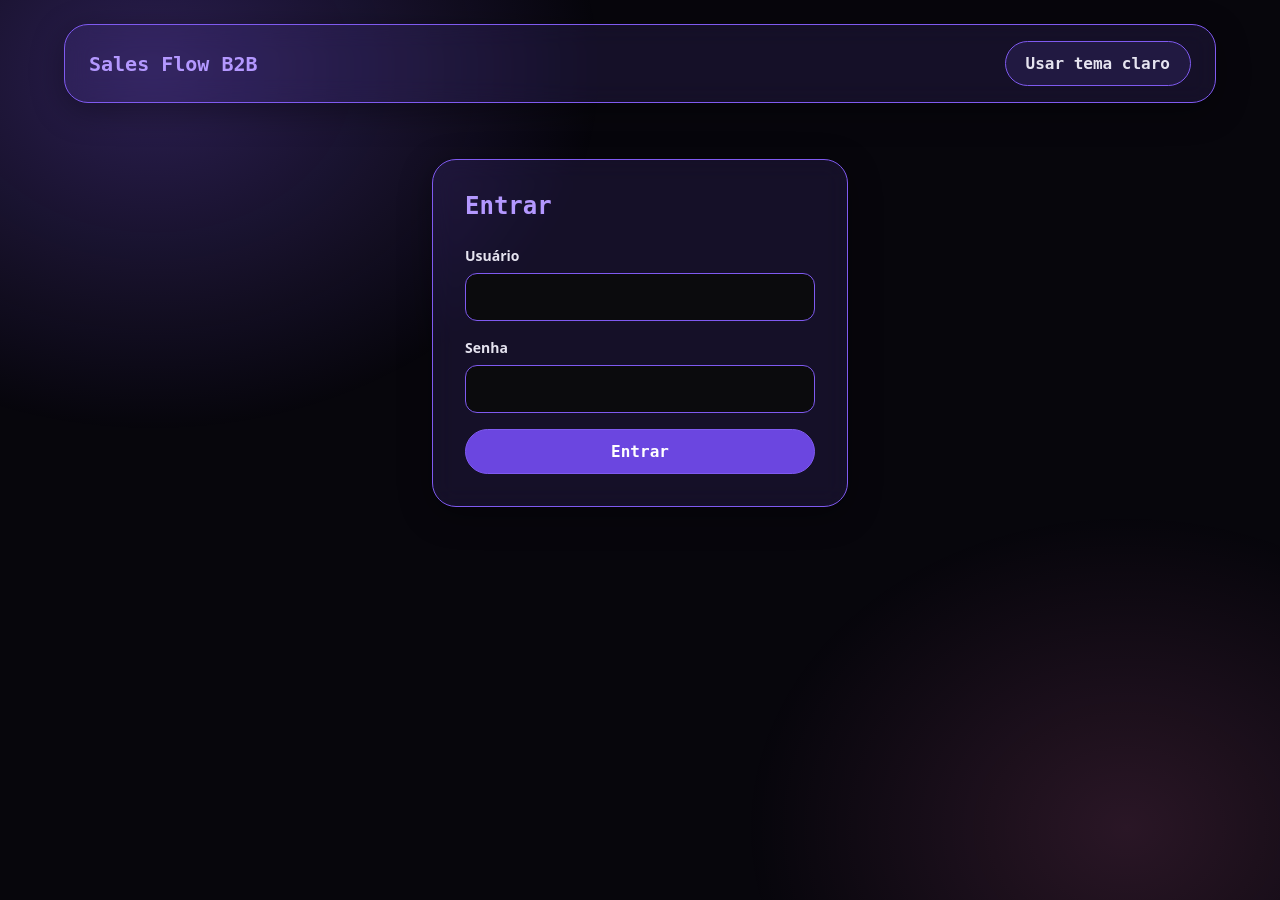
Test: LoginPage › shows an alert when the network fails
The image size is (1280, 900).
Type "alice" into the field labelled "Usuário" at (640, 297), box [465, 273, 815, 321]
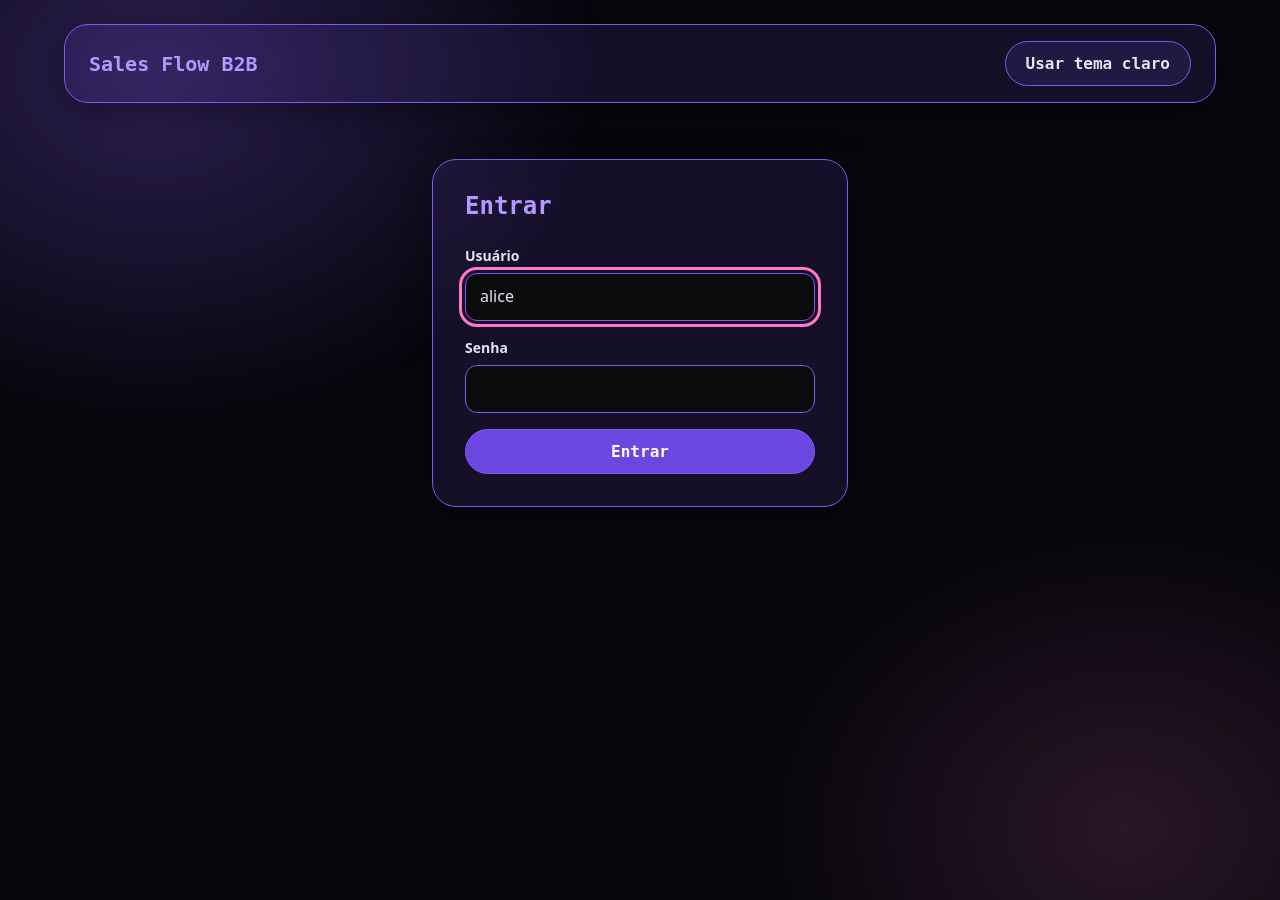
Type "wrong-pass" into the password field labelled "Senha" at (640, 389), box [465, 365, 815, 413]
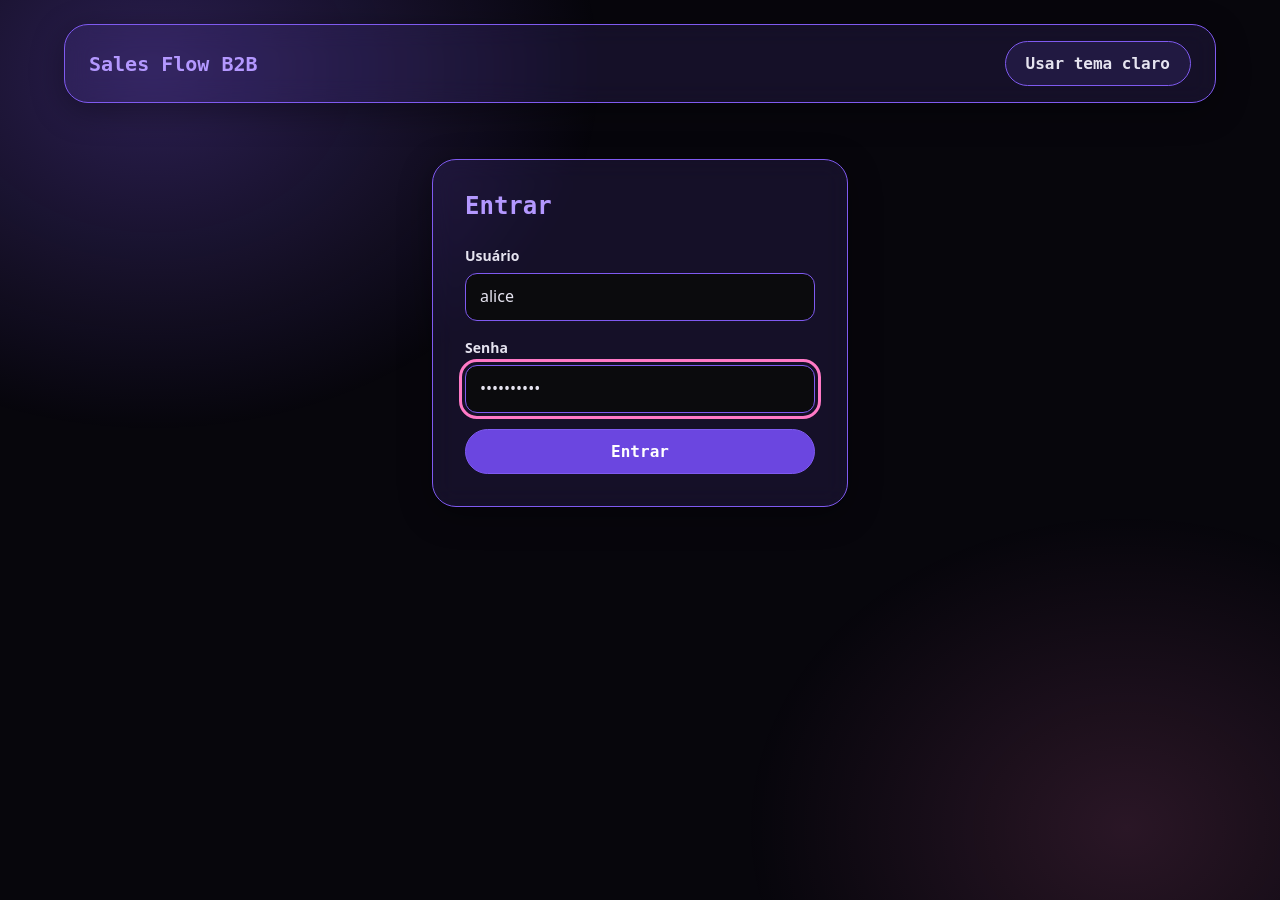
Click the button "Entrar" at (640, 451), box [465, 429, 815, 474]
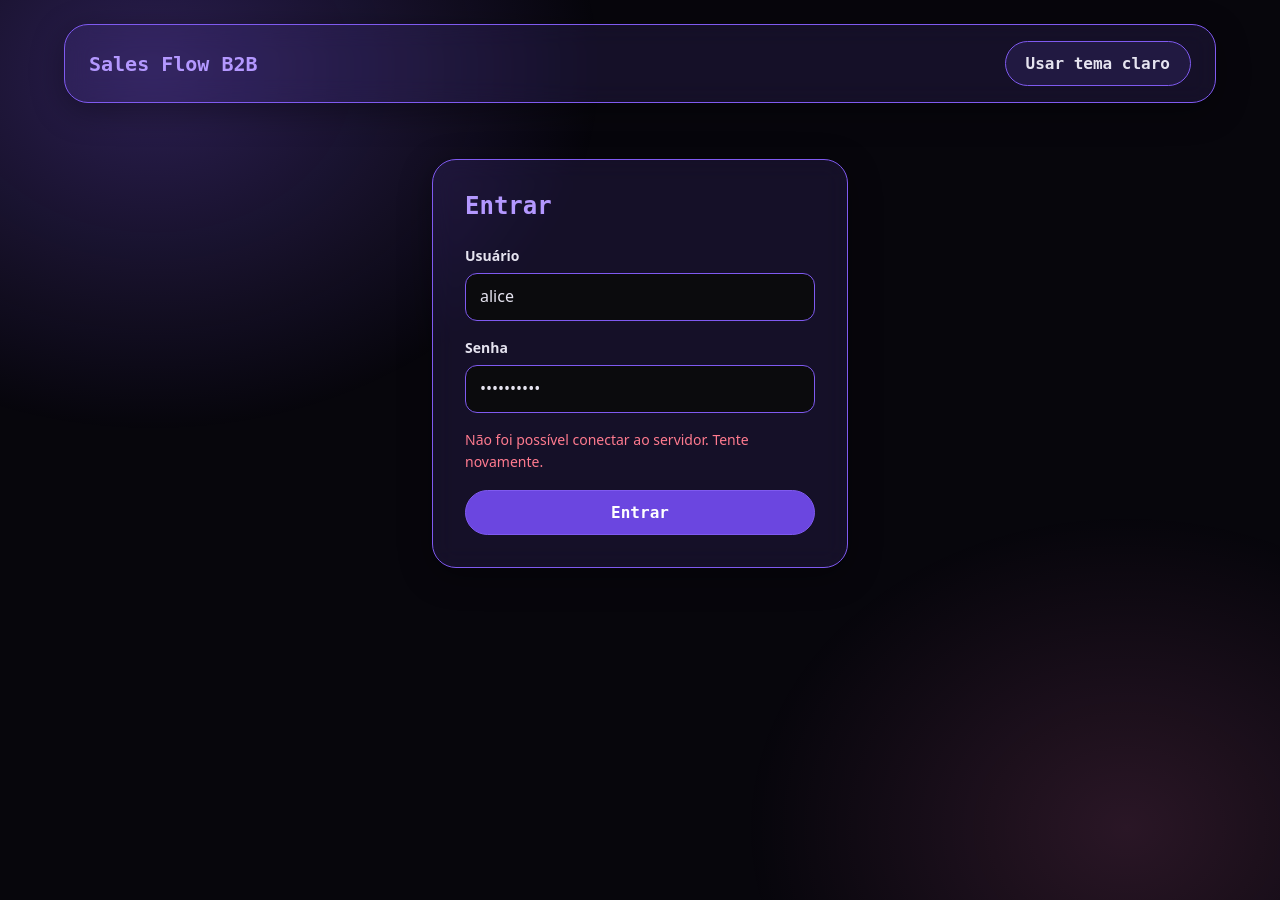
Now the message reads "Não foi possível conectar ao servidor. Tente novamente.", box [465, 430, 749, 471]
